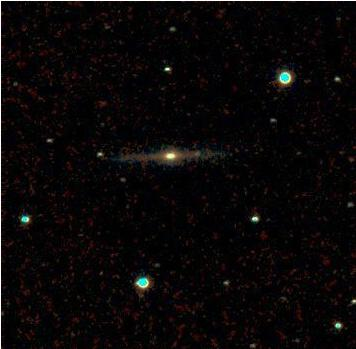star: (181, 136, 211, 166)
